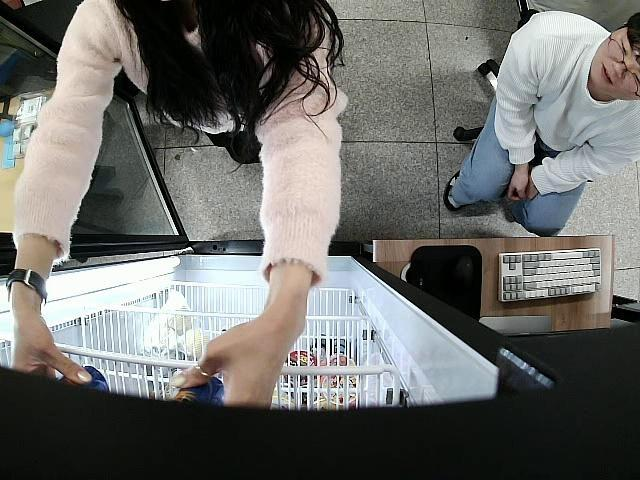16_hot6: (164, 372, 230, 406), (55, 362, 114, 400)
